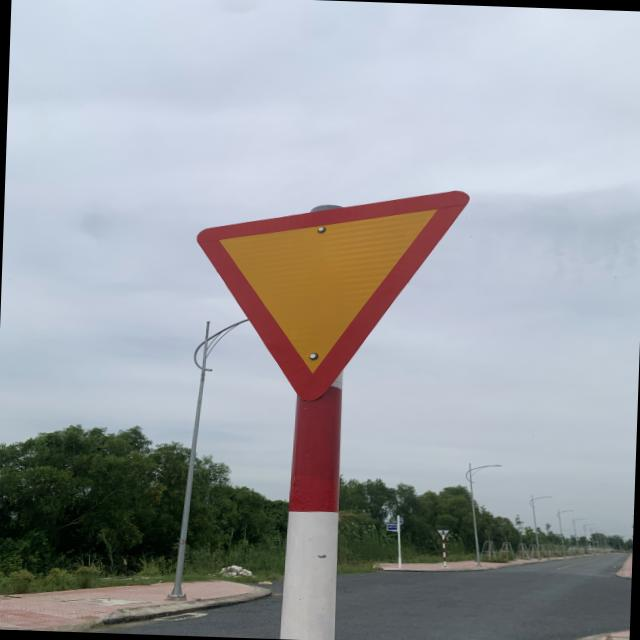Gioi_Han_Toc_Do_25: (189, 181, 469, 408)
